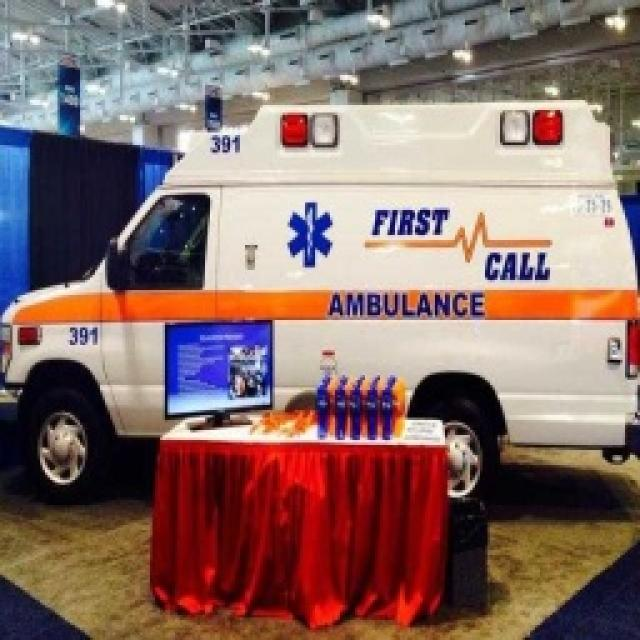emergency-vehicle: (3, 94, 636, 500)
